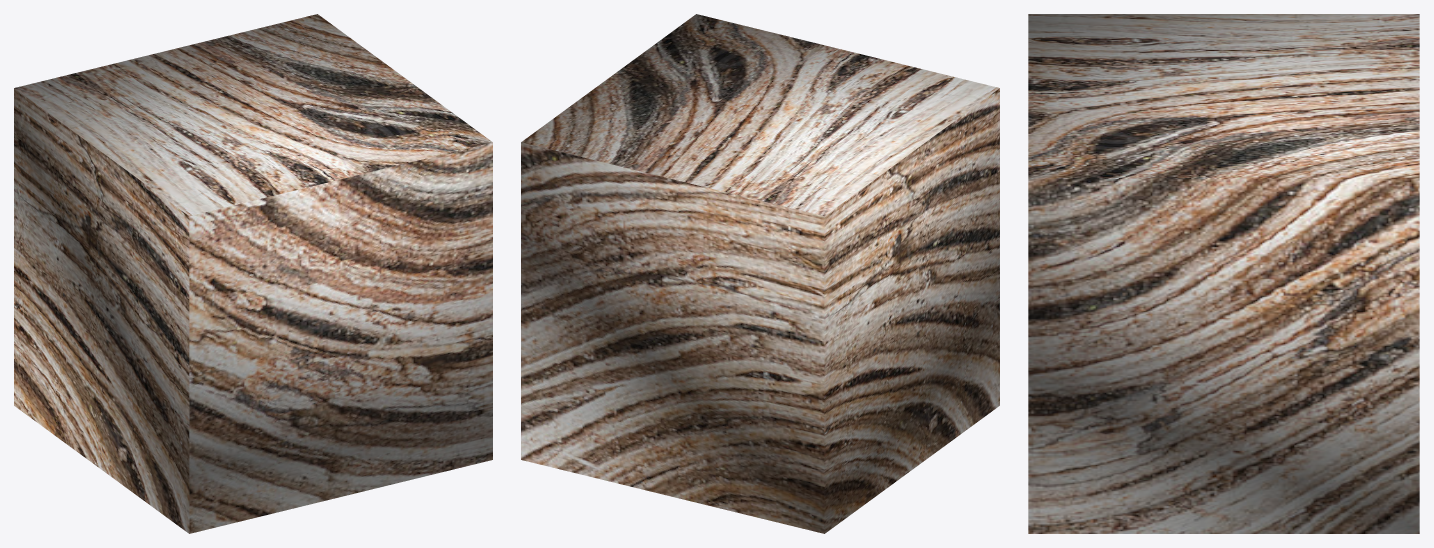
The model's file is cup2.gltf.
3 views of the same model, side by side, from view 1: azimuth 30°, elevation 25°; view 2: azimuth 150°, elevation 25°; view 3: azimuth 270°, elevation 25° (orthographic). The views are drawn at different scales.
Visible parts, largest first — view 1: Cube; view 2: Cube; view 3: Cube.
Part boxes in pixels (bbox=[...]): Cube: bbox=[14, 14, 492, 533]; Cube: bbox=[521, 14, 999, 533]; Cube: bbox=[1028, 14, 1419, 533].
Size of the model in its own units: 2.51 by 2.51 by 2.51.
2 materials, 2 textured.
